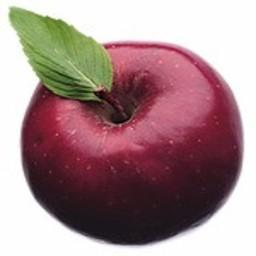apple: (15, 40, 244, 248)
